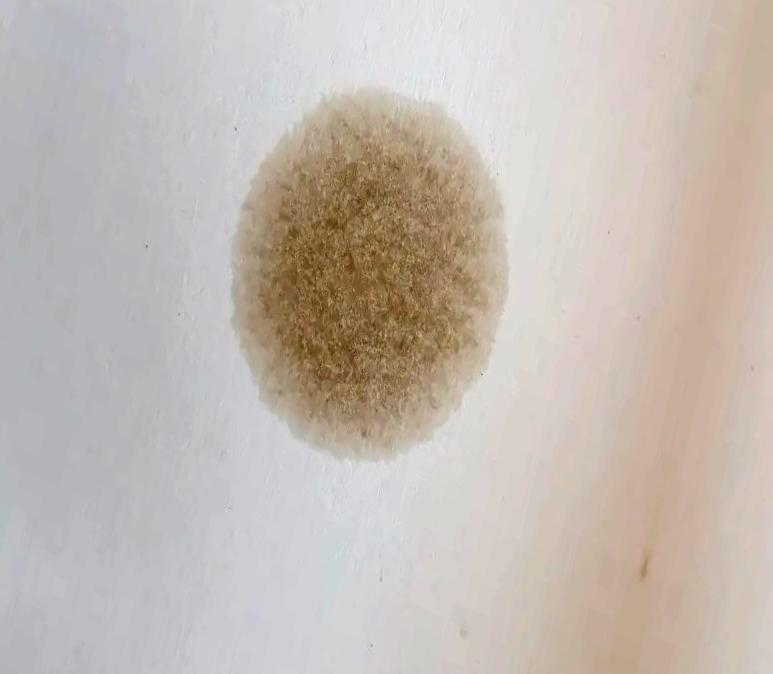stain: (222, 83, 520, 466)
